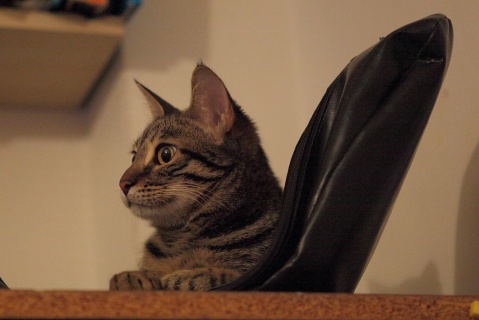Cat: (106, 53, 285, 291)
